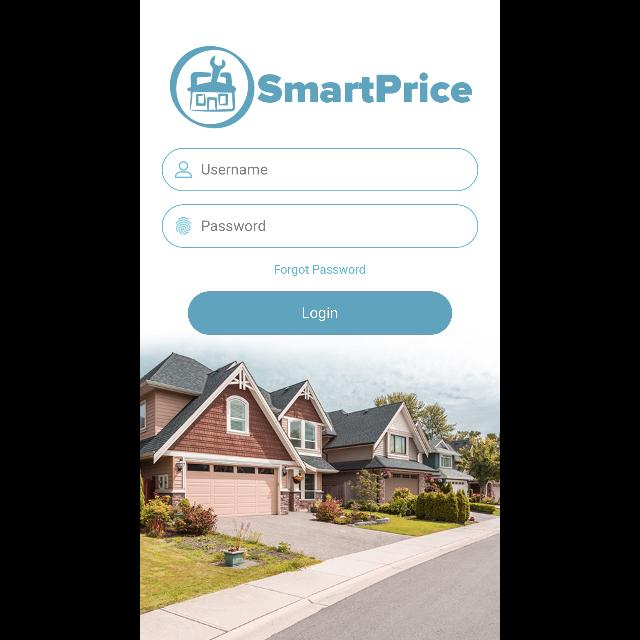icon: (175, 162, 192, 178)
image: (140, 346, 500, 640), (170, 45, 254, 128), (176, 218, 192, 235)
input: (162, 148, 478, 192), (162, 205, 478, 248)
text: (258, 73, 472, 104), (275, 264, 365, 276), (202, 220, 266, 232), (202, 163, 268, 174)
textbutton: (188, 292, 452, 334)
